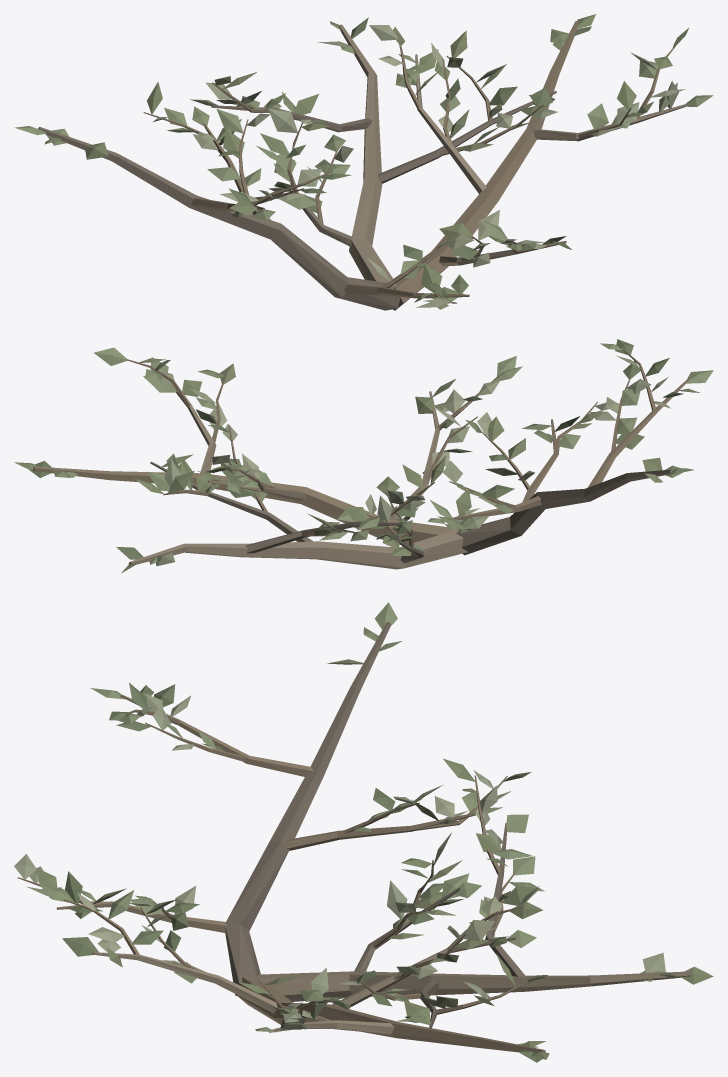
File: valley-sage.glb
3 renders of one model, top to bottom at view 1: azimuth 30°, elevation 25°; view 2: azimuth 150°, elevation 25°; view 3: azimuth 270°, elevation 25°, orthographic. The views are drawn at different scales.
Bounding box in the file's own units: 0.7822 × 0.2422 × 0.6575.
